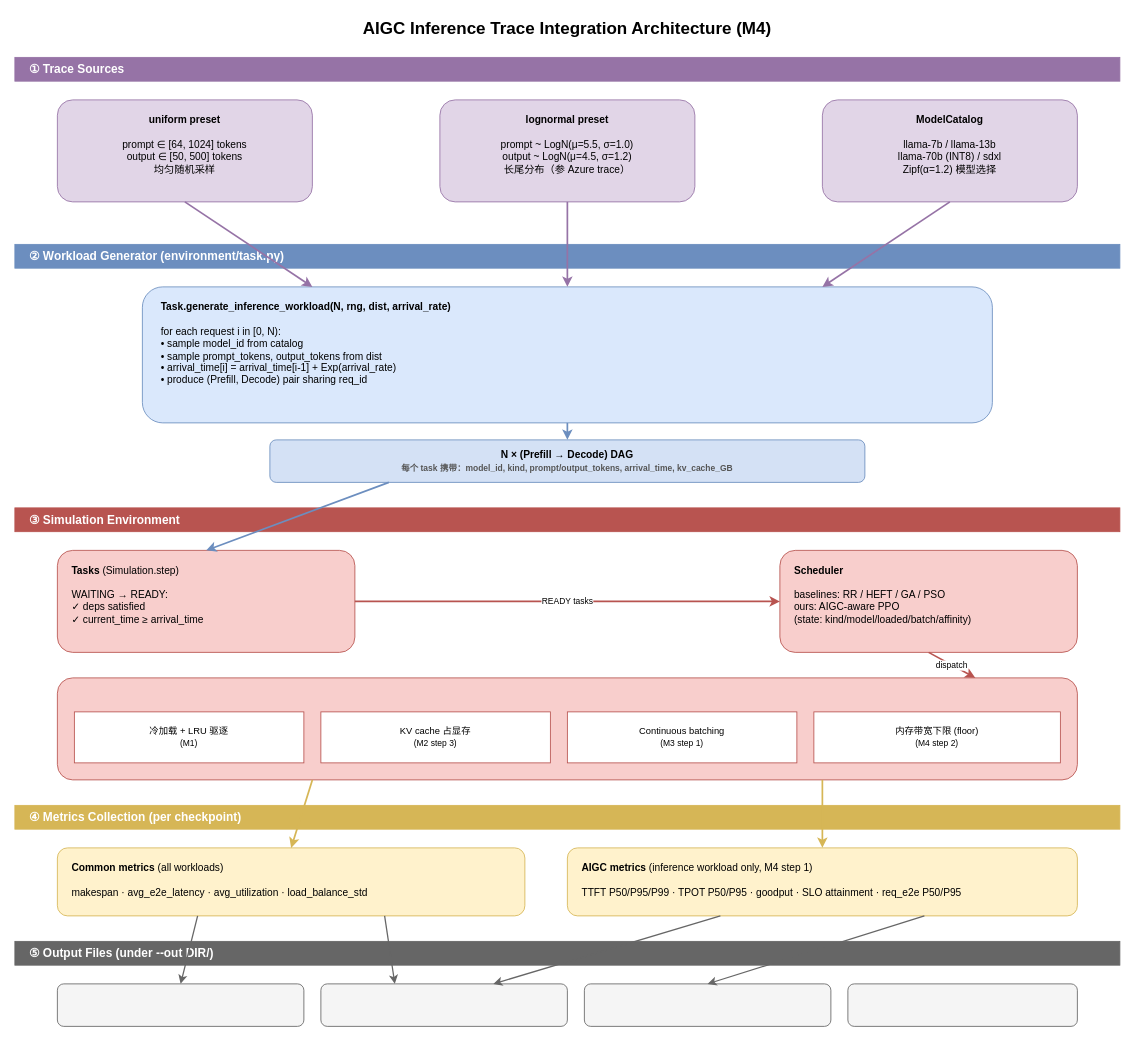
This 1135x1041 diagram has some shape labels left out. The box of each missing label's shape, as (x1, y1, x2, y2) in pixels:
benchmark_raw.csv 每轮每检查点: (57, 983, 304, 1026)
benchmark_summary.csv 均值 / std / 95% CI: (320, 983, 567, 1026)
run_manifest.json 配置 + git commit: (847, 983, 1077, 1026)
Servers (1 Cloud + N Edge, heterogeneous): (57, 677, 1077, 780)
statistical_tests.csv Mann-Whitney U 检验: (584, 983, 831, 1026)
